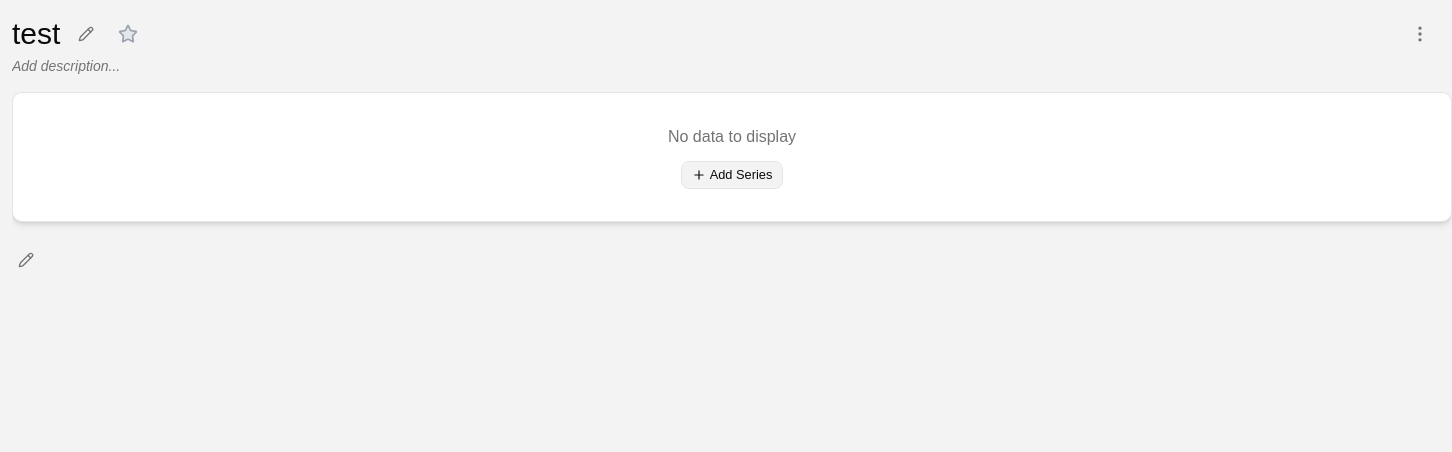
Scenario: TrackerDetailView › opens and closes series settings panel from tracker menu
Click the button named "tracker menu": (1420, 34) x1=1404 y1=18 x2=1436 y2=50
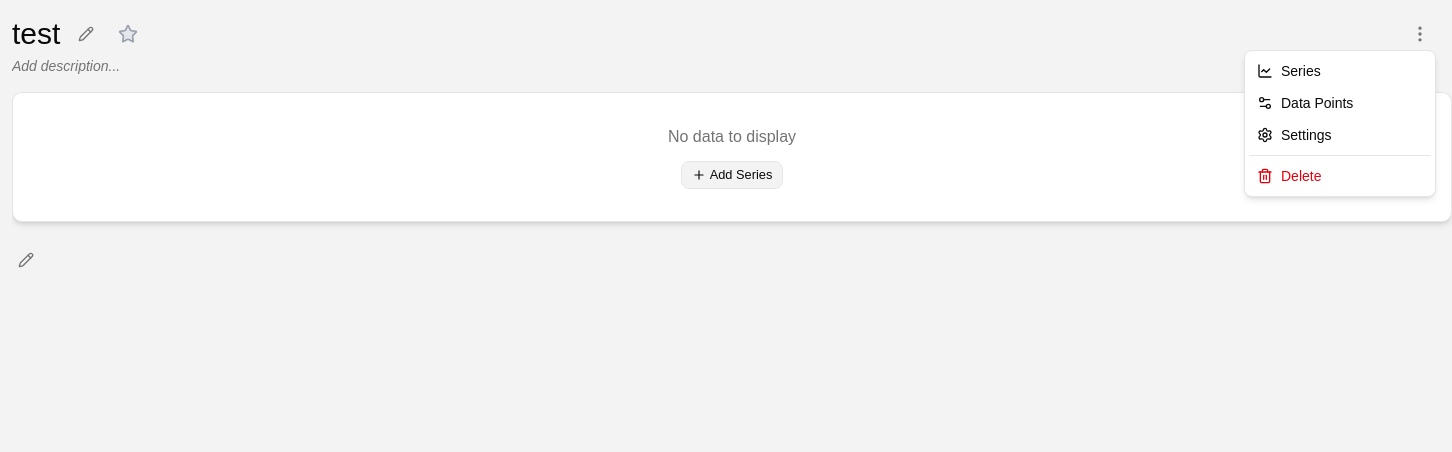
Click the menu item "Series": (1289, 71) x1=1257 y1=63 x2=1321 y2=79
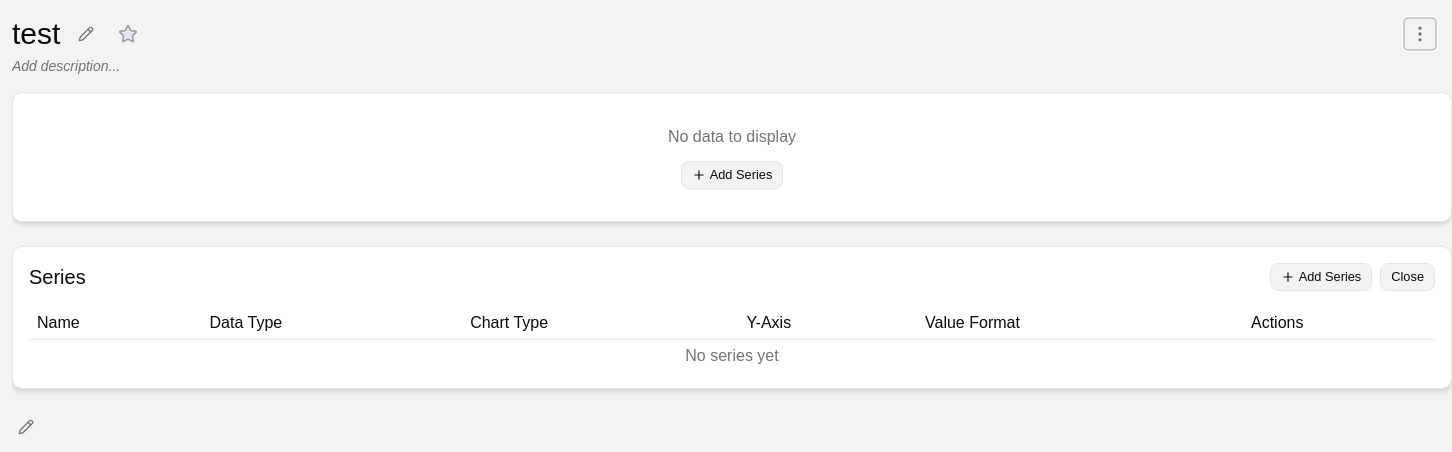
Check: the text "No series yet" is shown, box x1=29 y1=339 x2=1435 y2=372
Click the button "Close": (1408, 277) x1=1380 y1=263 x2=1435 y2=291
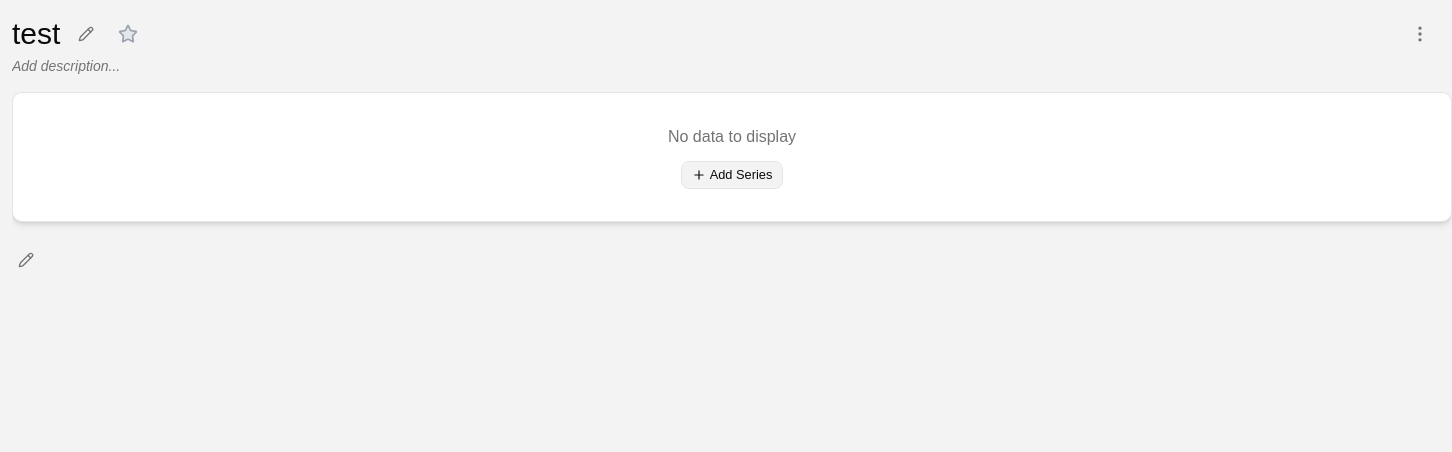
Check: the text "No series yet" is gone
